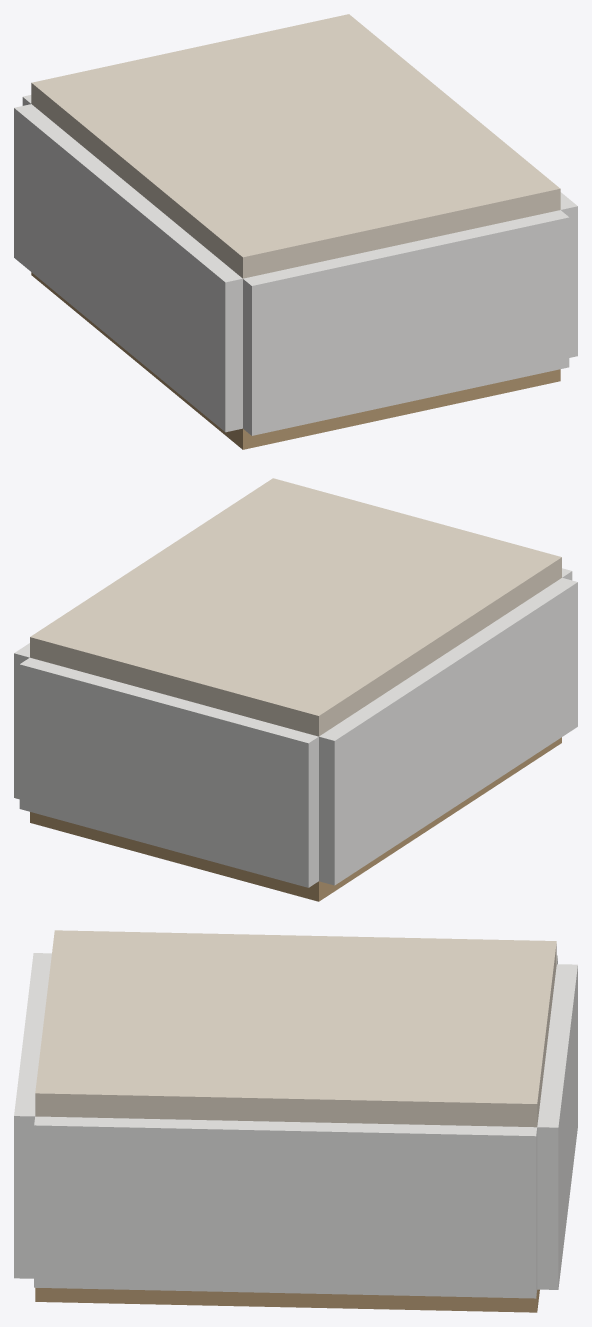
3 renders of one model, top to bottom at view 1: azimuth 30°, elevation 25°; view 2: azimuth 150°, elevation 25°; view 3: azimuth 270°, elevation 25°, orthographic. The views are drawn at different scales.
Parts seen in each view (by area): view 1: Ceiling, Wall_01, Wall_04, Floor, Wall_02; view 2: Ceiling, Wall_03, Wall_04, Floor, Wall_02; view 3: Ceiling, Wall_02, Wall_03, Floor, Wall_01.
Part boxes in pixels (x1=…): Ceiling: x1=31, y1=14, x2=560, y2=278; Wall_01: x1=243, y1=210, x2=569, y2=435; Wall_04: x1=14, y1=104, x2=242, y2=432; Floor: x1=31, y1=272, x2=560, y2=449; Wall_02: x1=560, y1=192, x2=577, y2=357; Ceiling: x1=30, y1=478, x2=561, y2=736; Wall_03: x1=19, y1=657, x2=318, y2=887; Wall_04: x1=319, y1=578, x2=577, y2=885; Floor: x1=30, y1=737, x2=561, y2=901; Wall_02: x1=14, y1=643, x2=29, y2=799; Ceiling: x1=35, y1=930, x2=556, y2=1127; Wall_02: x1=34, y1=1116, x2=537, y2=1298; Wall_03: x1=537, y1=964, x2=577, y2=1289; Floor: x1=35, y1=1287, x2=539, y2=1312; Wall_01: x1=14, y1=953, x2=51, y2=1278.
Bounding box in the file's own units: 5.34 × 2.71 × 6.64.
